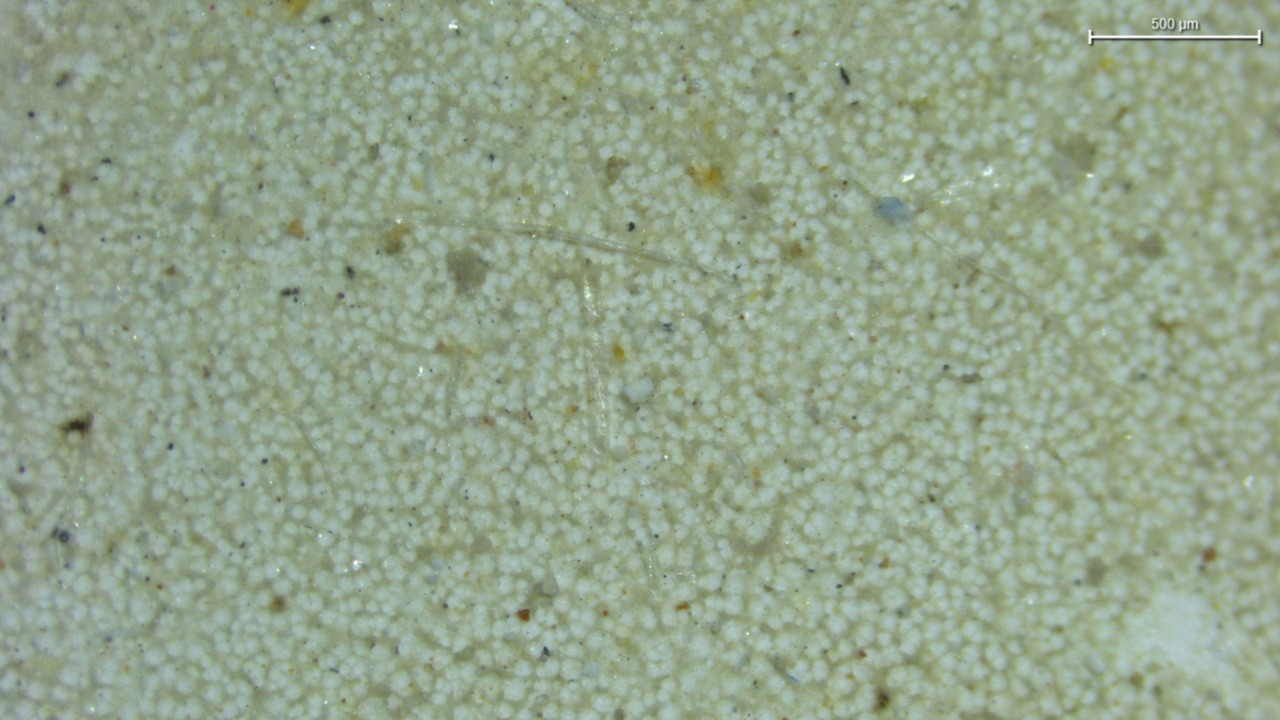microplastic_fragment: (446, 249, 488, 294), (624, 377, 653, 403)
